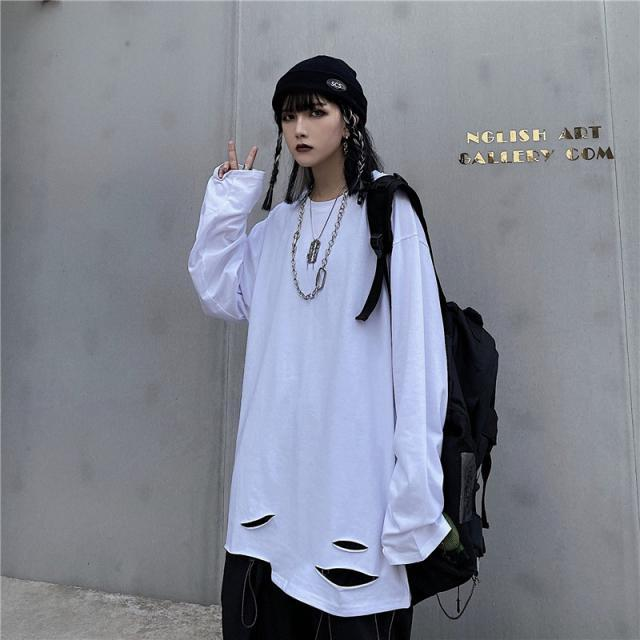Shirt: (182, 159, 445, 618)
